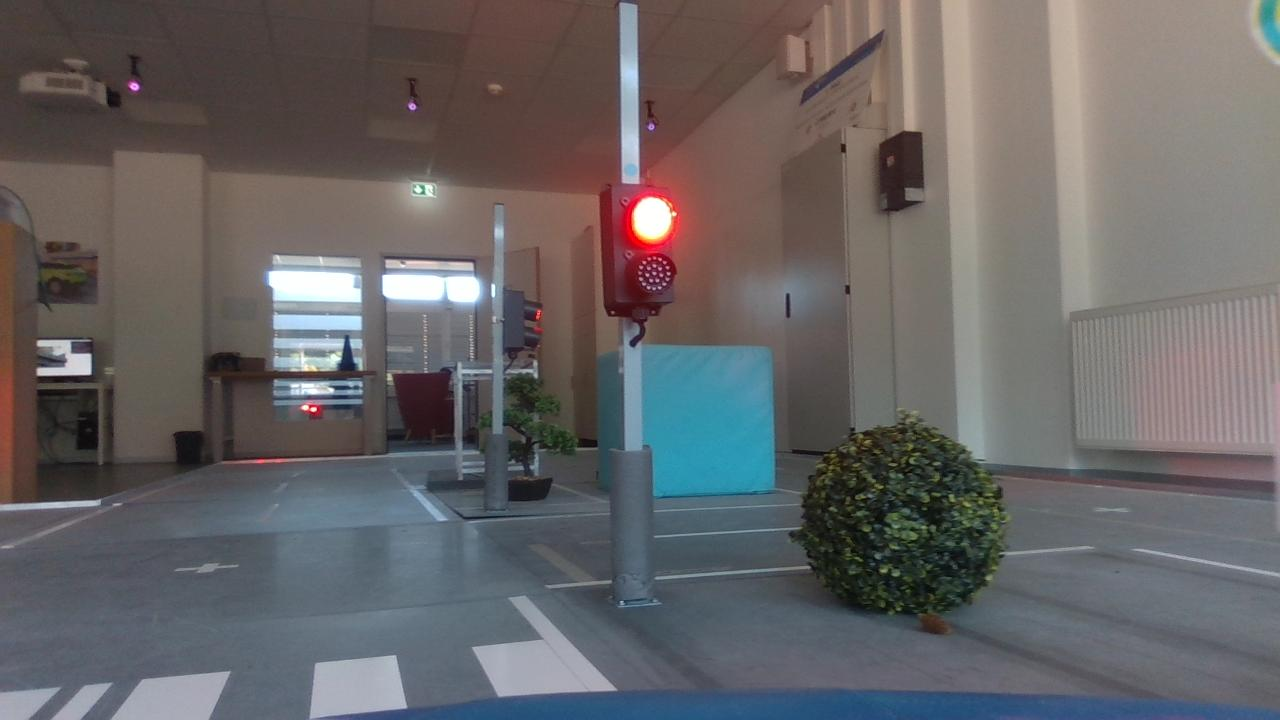traffic_light_red: (586, 169, 686, 328)
